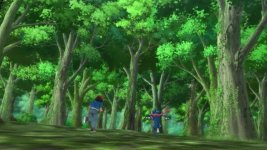greninja: (146, 107, 172, 135)
